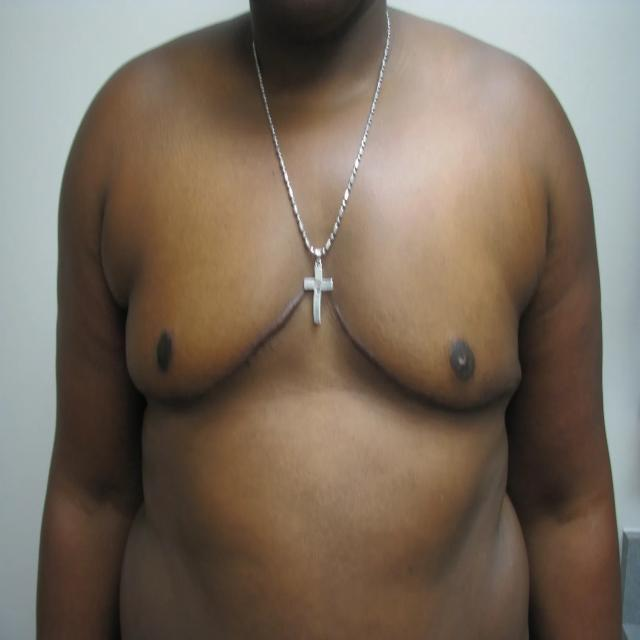Seno herido: (331, 246, 528, 428), (116, 246, 308, 428)
